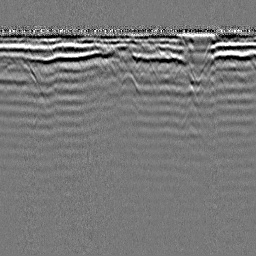cavity: (117, 70, 140, 93)
